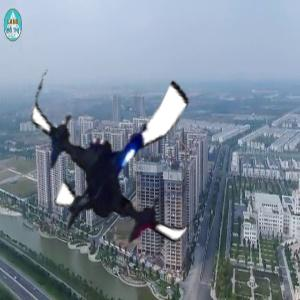drone: (12, 46, 227, 261)
